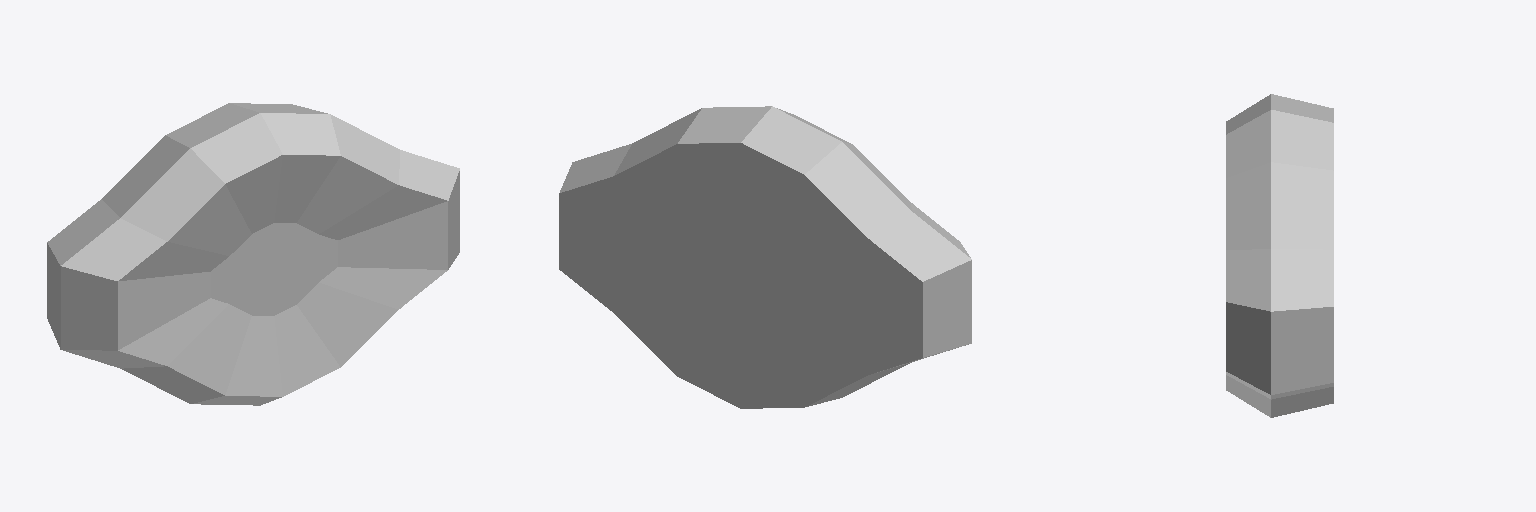
Rendered from ironguard.obj.
3 views of the same model, side by side, from view 1: azimuth 30°, elevation 25°; view 2: azimuth 150°, elevation 25°; view 3: azimuth 270°, elevation 25° (orthographic).
Parts seen in each view (by area): view 1: Base; view 2: Base; view 3: Base.
Part boxes in pixels (x1,y1,x2,y2): Base: (47,103,459,405); Base: (559,106,971,408); Base: (1226,94,1333,417).
Bounding box in the file's own units: 0.4974 × 0.3482 × 0.1167.